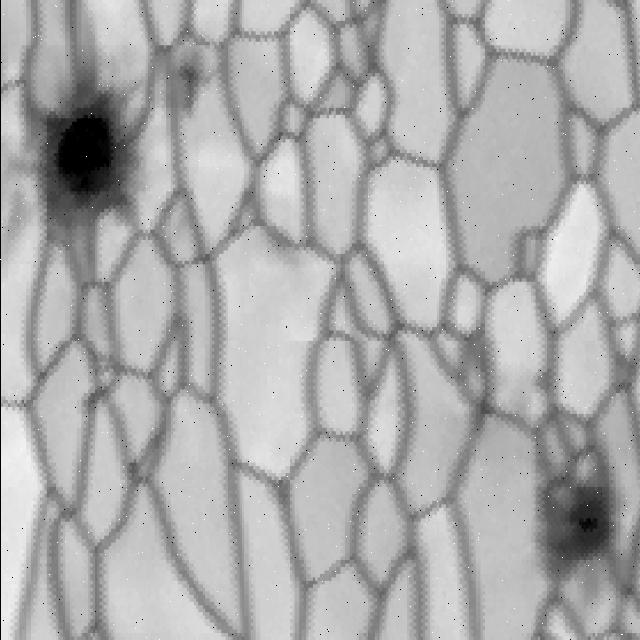good_void: (12, 79, 145, 242), (517, 464, 623, 628), (166, 33, 222, 124)
